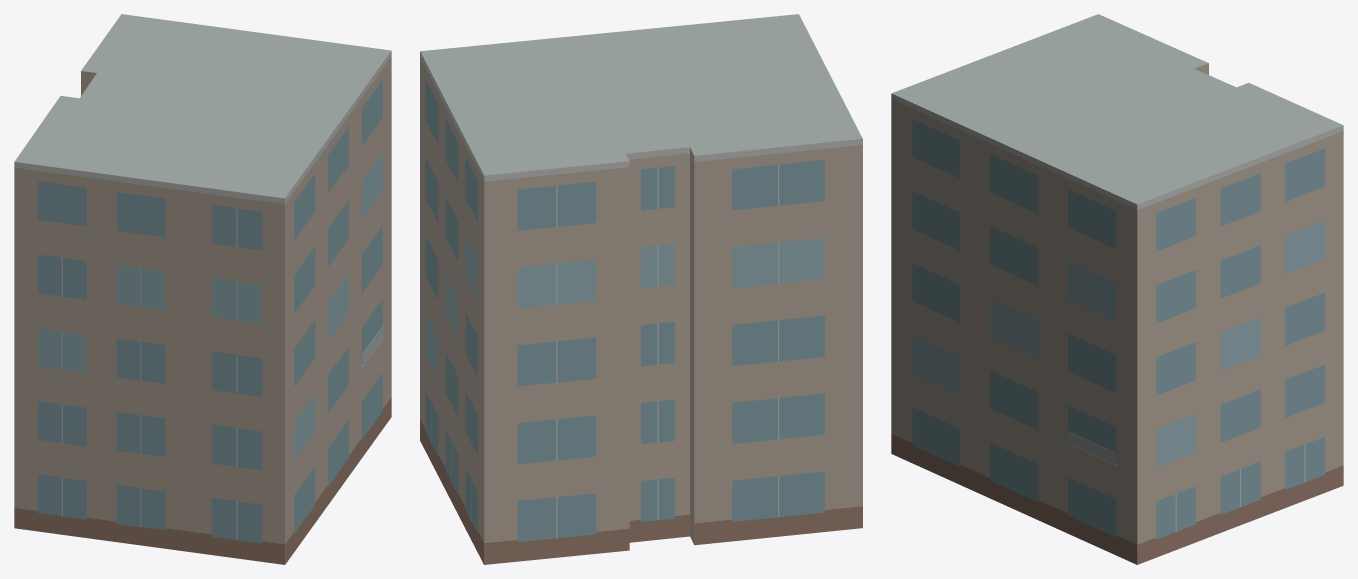
File: survey-upis-32949966.glb
3 renders of one model, left to right at view 1: azimuth 30°, elevation 25°; view 2: azimuth 150°, elevation 25°; view 3: azimuth 270°, elevation 25°, orthographic. The views are drawn at different scales.
Parts seen in each view (by area): view 1: survey-upis-32949966.tmp; view 2: survey-upis-32949966.tmp; view 3: survey-upis-32949966.tmp.
Boxes of the visible parts, x1,y1,x2,y2 form: survey-upis-32949966.tmp: (14,14,391,564); survey-upis-32949966.tmp: (420,14,862,564); survey-upis-32949966.tmp: (891,14,1343,564).
Size of the model in its own units: 17.52 by 15.45 by 17.58.
